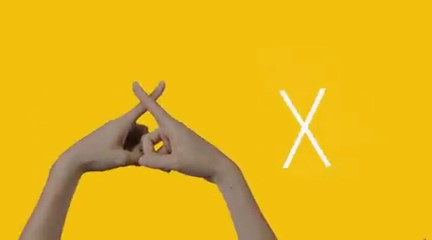X: (55, 71, 242, 189)
